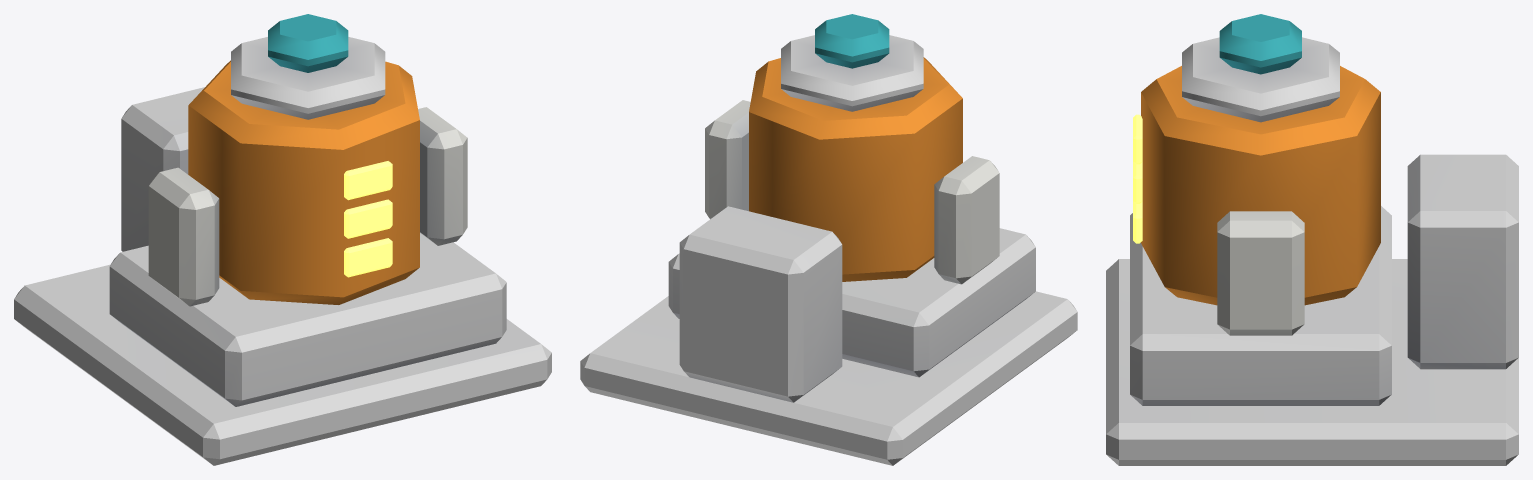
The model's file is R4X_Battery_LOD1.fbx.
3 renders of one model, left to right at view 1: azimuth 30°, elevation 25°; view 2: azimuth 150°, elevation 25°; view 3: azimuth 270°, elevation 25°, orthographic. The views are drawn at different scales.
Visible parts, largest first — view 1: R4X_Battery_LOD1; view 2: R4X_Battery_LOD1; view 3: R4X_Battery_LOD1.
Part boxes in pixels (left/top/right/bottom): R4X_Battery_LOD1: left=14, top=14, right=551, bottom=465; R4X_Battery_LOD1: left=580, top=14, right=1077, bottom=465; R4X_Battery_LOD1: left=1106, top=14, right=1518, bottom=465.
Bounding box in the file's own units: 0.52 × 0.495 × 0.52.
